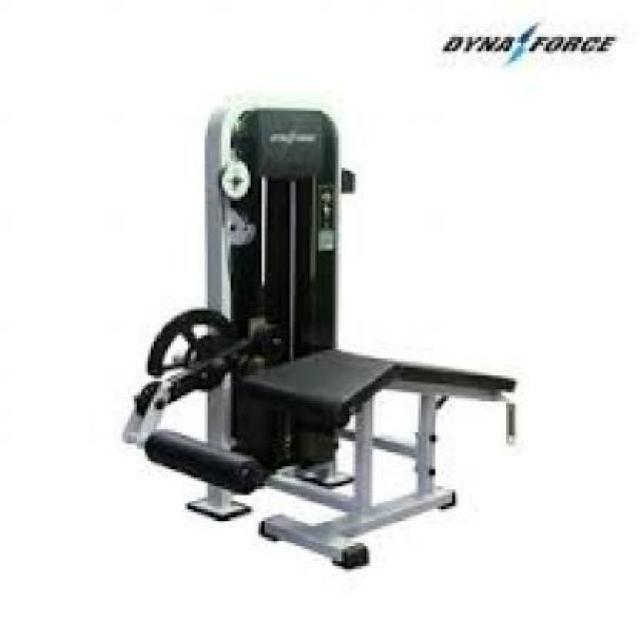reg curl machine: (117, 97, 521, 578)
